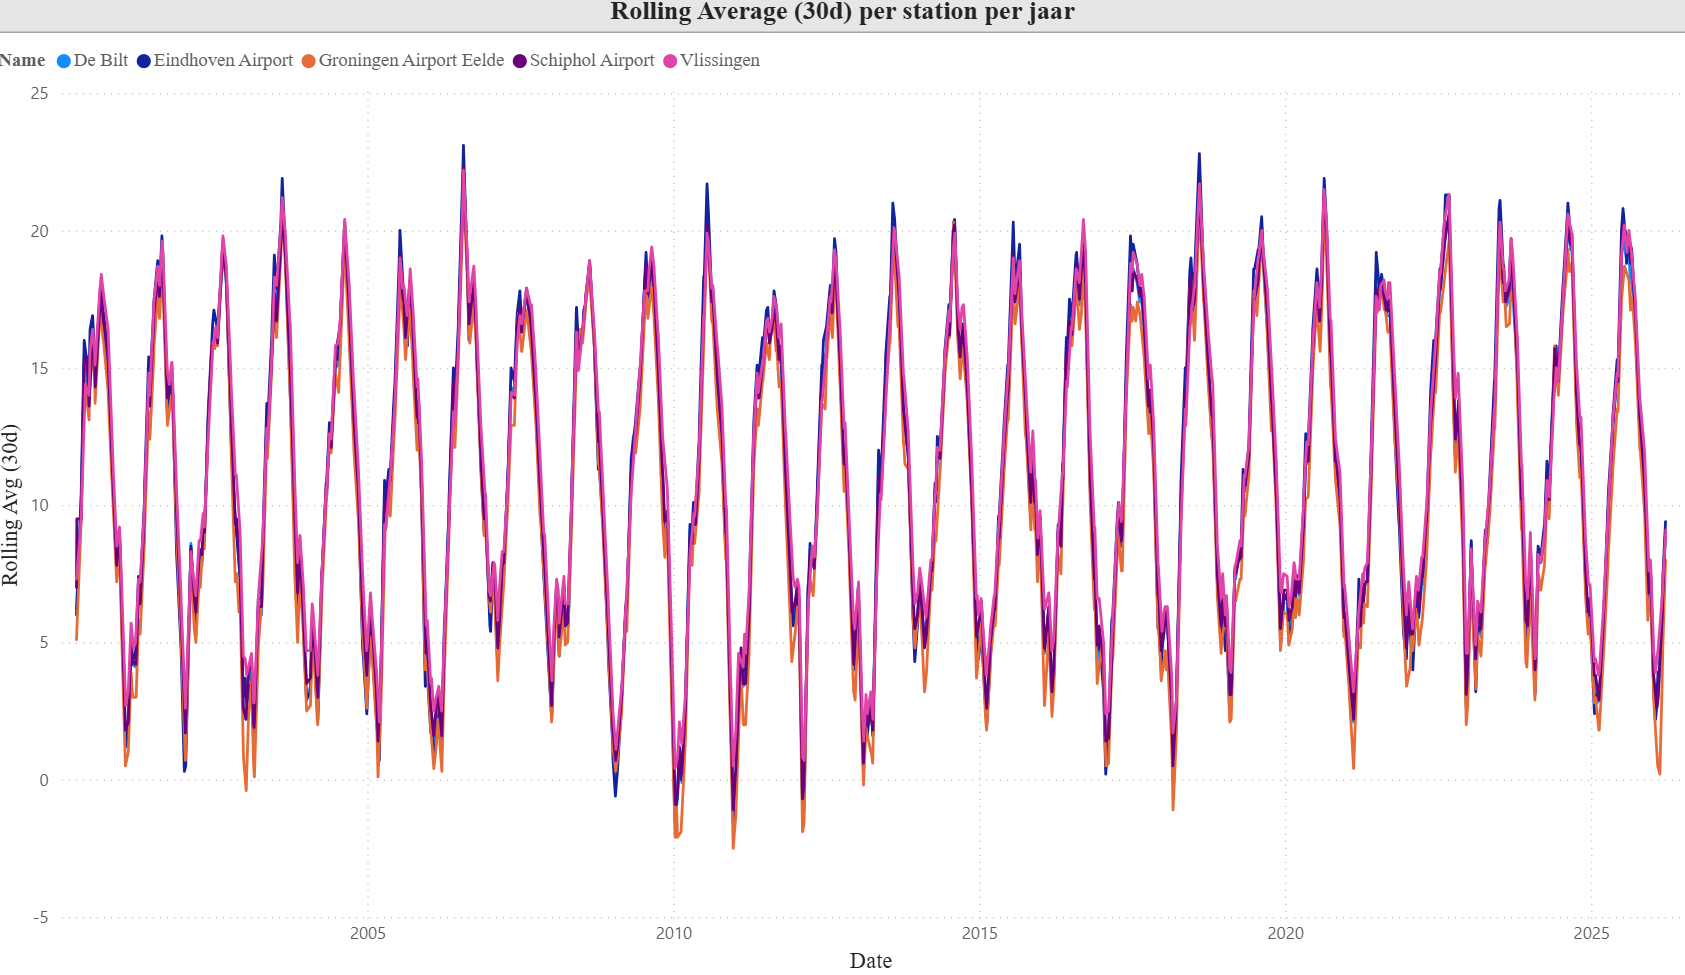

This screenshot's page, from the dashboard's own definition file:
{"tool":"powerbi","page":{"name":"Temperatuurtrend","canvas":[1280,720],"ordinal":1},"visuals":[{"type":"lineChart","title":"Rolling Average (30d) per station per jaar","fields":{"Category":["rolling_avg_30d.date"],"Y":["Avg(rolling_avg_30d.rolling_avg_30d)"],"Series":["rolling_avg_30d.name"]},"box":[32,0,1216,704],"z":0}]}

Visuals, with their boxes in screenshot pixels (x1, y1, x2, y2), scaled from the page's 1280x720 canvas onto the 1685x975 screenshot:
"Rolling Average (30d) per station per jaar" lineChart: (x1=42, y1=0, x2=1643, y2=953)
